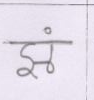anusvara: (45, 27, 52, 34)
